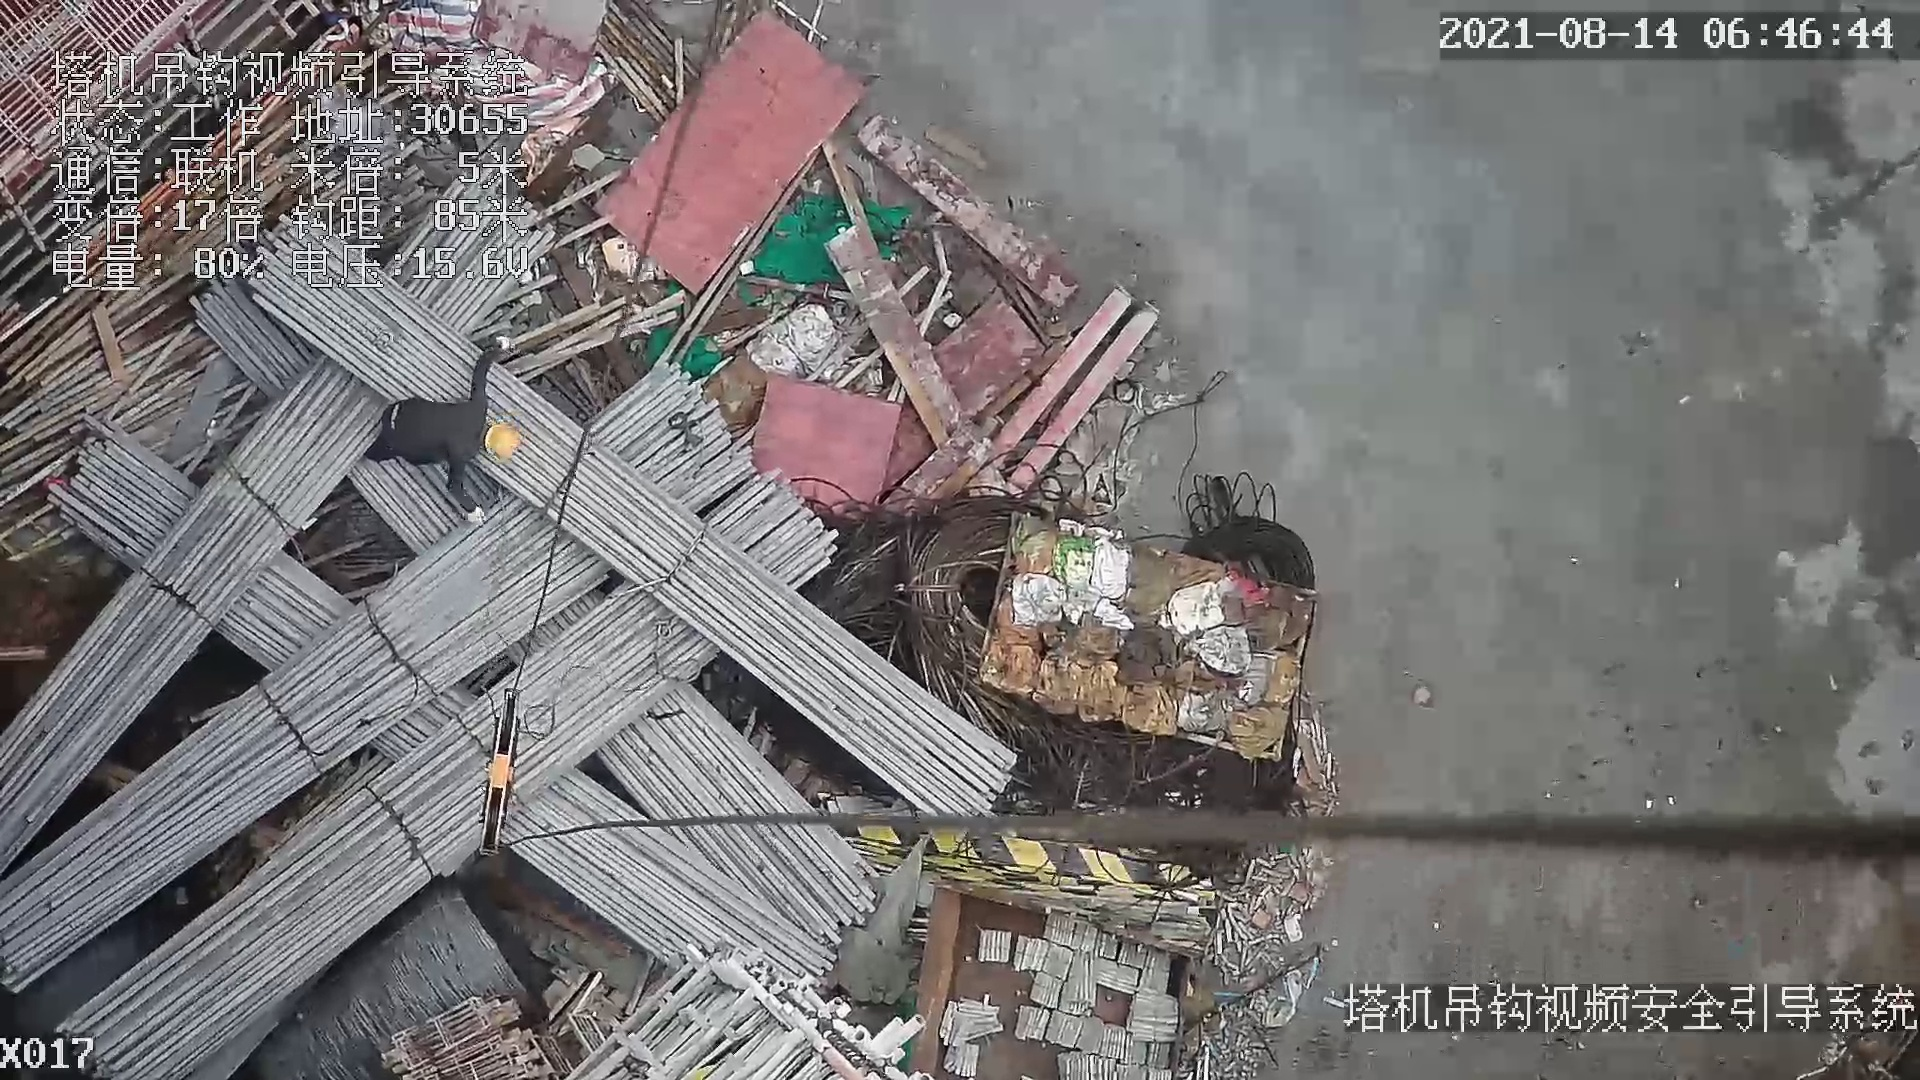board: (589, 16, 851, 283)
helmet: (486, 422, 523, 460)
hook: (474, 681, 529, 858)
person: (378, 337, 515, 522)
